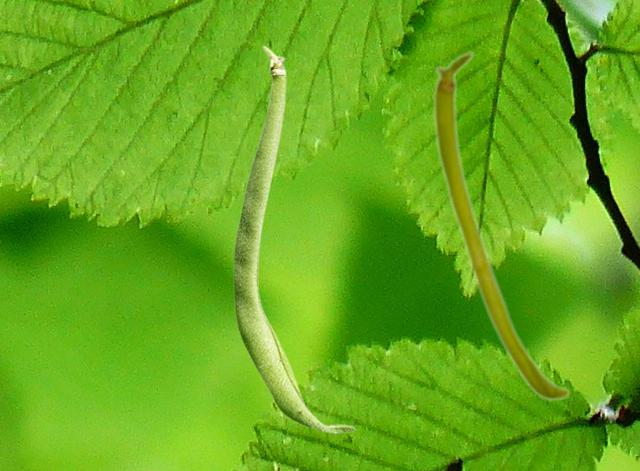french_bean: (432, 50, 570, 401), (233, 45, 355, 433)
